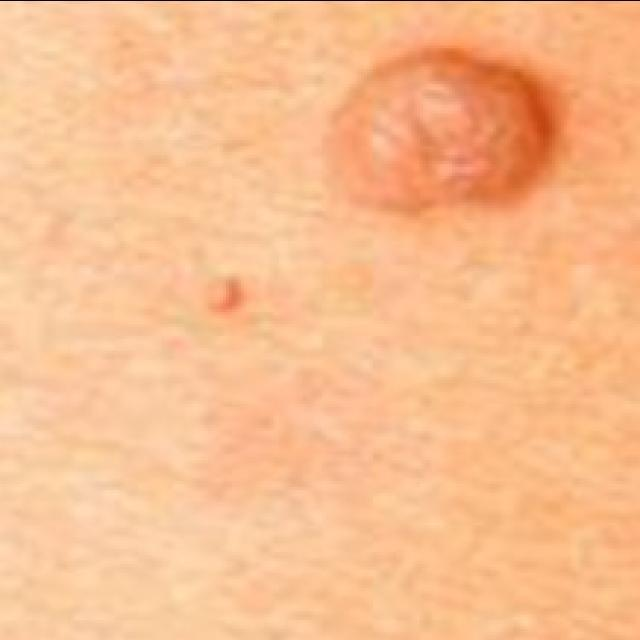wart: (311, 42, 573, 222)
